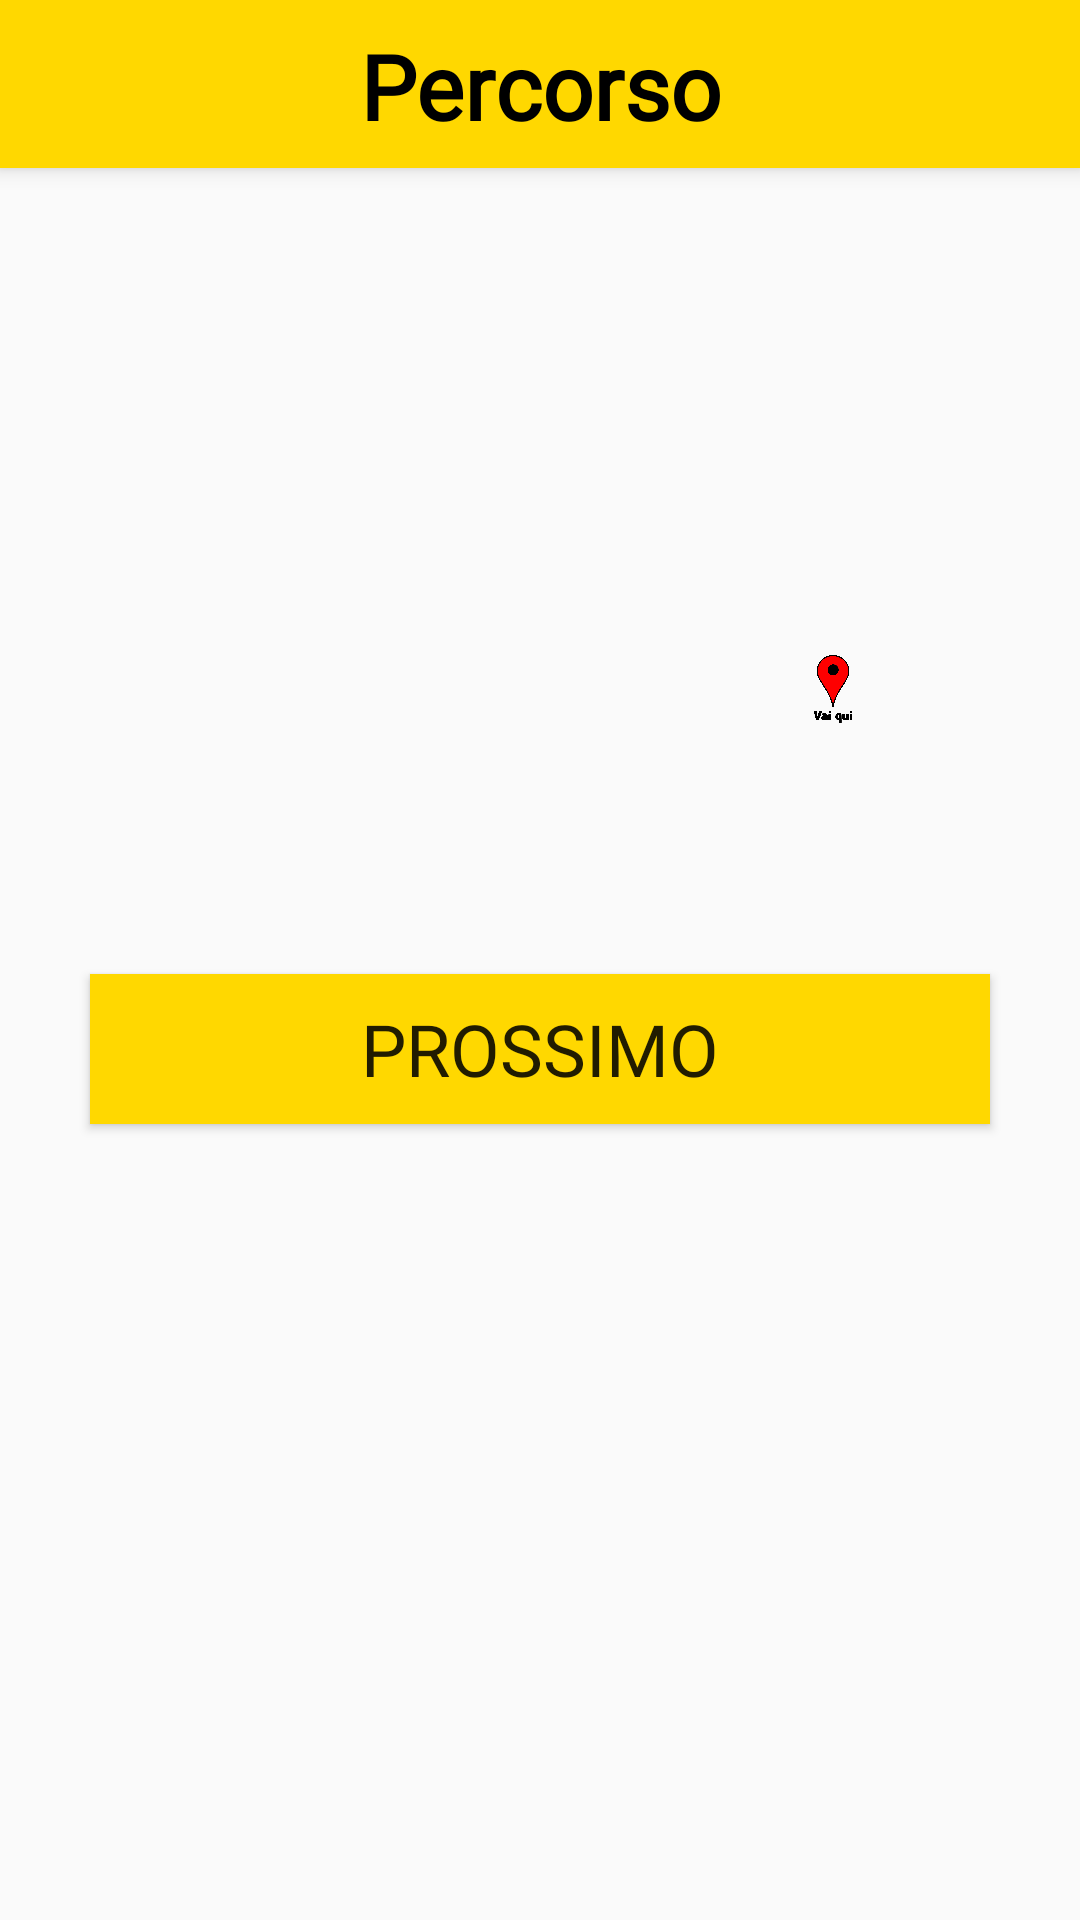

Icons on this 1080px x 1920px Android screen, each with its box as bbox=[x1, y1, x2, y2]:
pin: bbox=[814, 655, 852, 723]
